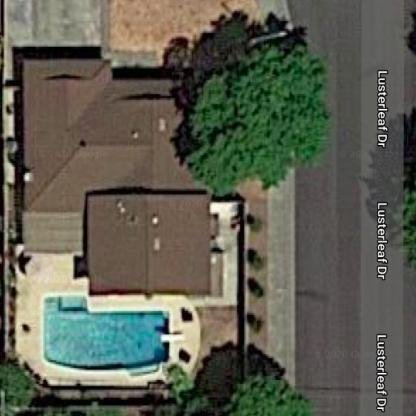swimming_pool: (29, 285, 190, 377)
